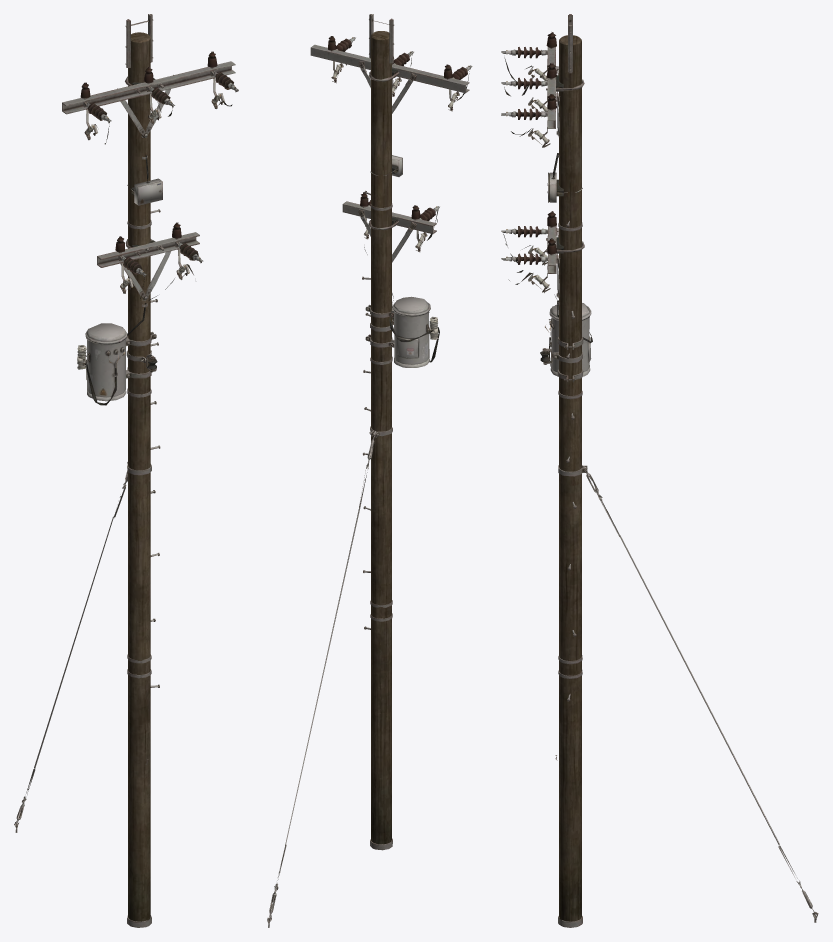
The model's file is poteau_electrique_a_lod0.glb.
The picture shows the model from 3 angles, left to right: view 1: azimuth 30°, elevation 25°; view 2: azimuth 150°, elevation 25°; view 3: azimuth 270°, elevation 25°; orthographic projection. The views are drawn at different scales.
Parts seen in each view (by area): view 1: preset_01_pole, preset_01_bolt_small_01; view 2: preset_01_pole, preset_01_bolt_small_01; view 3: preset_01_pole, preset_01_bolt_small_01.
Boxes of the visible parts, x1,y1,x2,y2 form: preset_01_pole: (128, 32, 150, 921); preset_01_bolt_small_01: (14, 14, 238, 927); preset_01_pole: (371, 31, 391, 844); preset_01_bolt_small_01: (267, 14, 472, 927); preset_01_pole: (559, 35, 581, 921); preset_01_bolt_small_01: (501, 14, 818, 927).
Size of the model in its own units: 1.2 by 6.13 by 1.95.
Materials: 2 (2 with a texture image).
